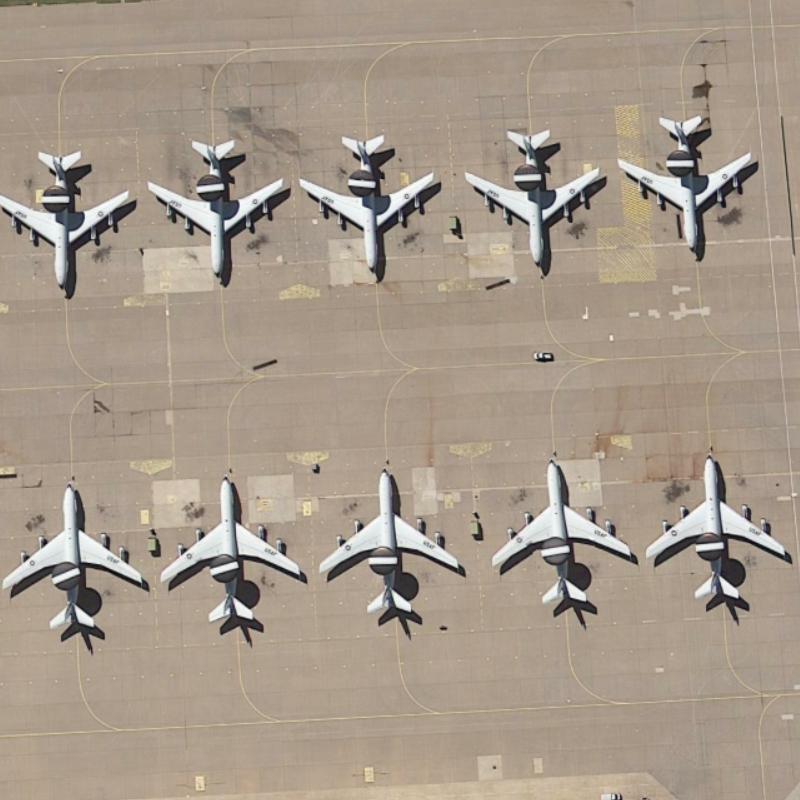A7: (315, 462, 471, 628), (484, 452, 638, 619), (142, 133, 296, 296), (3, 482, 158, 642), (158, 472, 313, 631), (641, 449, 793, 608), (450, 122, 610, 272), (610, 106, 760, 262), (290, 131, 445, 279), (3, 138, 136, 305)
